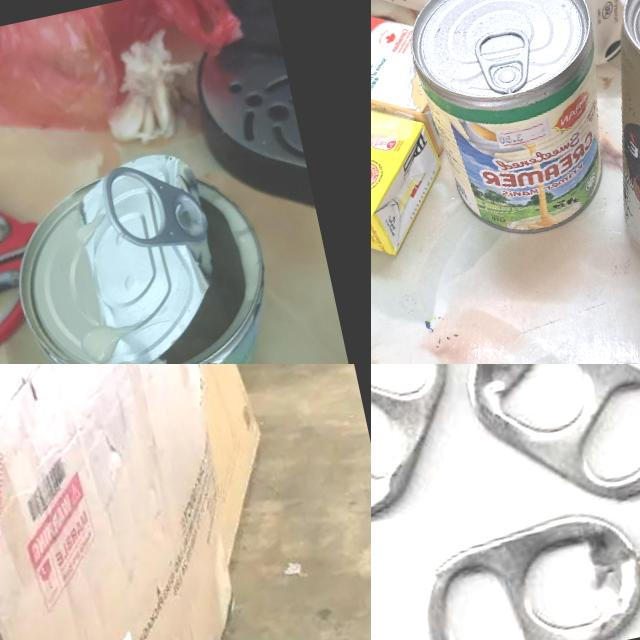aba de lata: (405, 498, 640, 640), (449, 364, 640, 531), (371, 364, 481, 538), (94, 150, 212, 262), (471, 23, 537, 96)
caixinha: (371, 0, 640, 116), (371, 33, 457, 288), (371, 0, 429, 153)
lata: (0, 137, 299, 364), (399, 0, 629, 250), (574, 0, 640, 281)
papelão: (0, 364, 363, 640)
